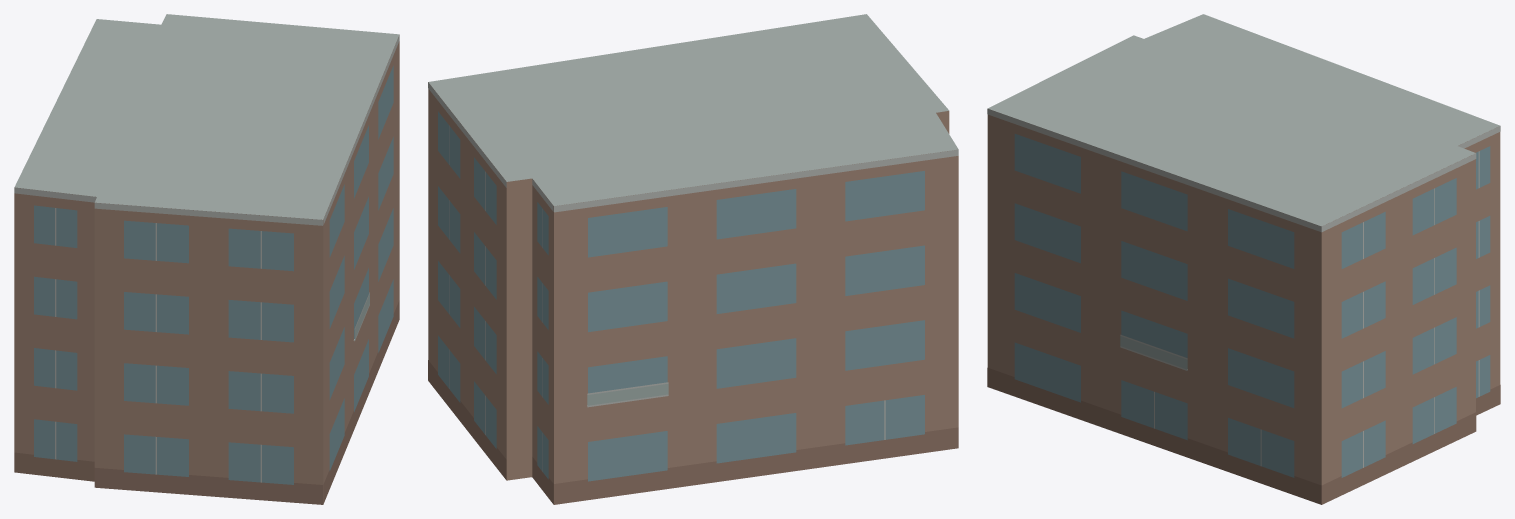
File: survey-upis-32692663.glb
The picture shows the model from 3 angles, left to right: view 1: azimuth 30°, elevation 25°; view 2: azimuth 150°, elevation 25°; view 3: azimuth 270°, elevation 25°; orthographic projection. The views are drawn at different scales.
Visible parts, largest first — view 1: survey-upis-32692663.tmp; view 2: survey-upis-32692663.tmp; view 3: survey-upis-32692663.tmp.
Boxes of the visible parts, x1,y1,x2,y2 form: survey-upis-32692663.tmp: (14,14,399,504); survey-upis-32692663.tmp: (428,14,958,504); survey-upis-32692663.tmp: (987,14,1500,504).
Bounding box in the file's own units: 18.99 × 11.6 × 19.38.
